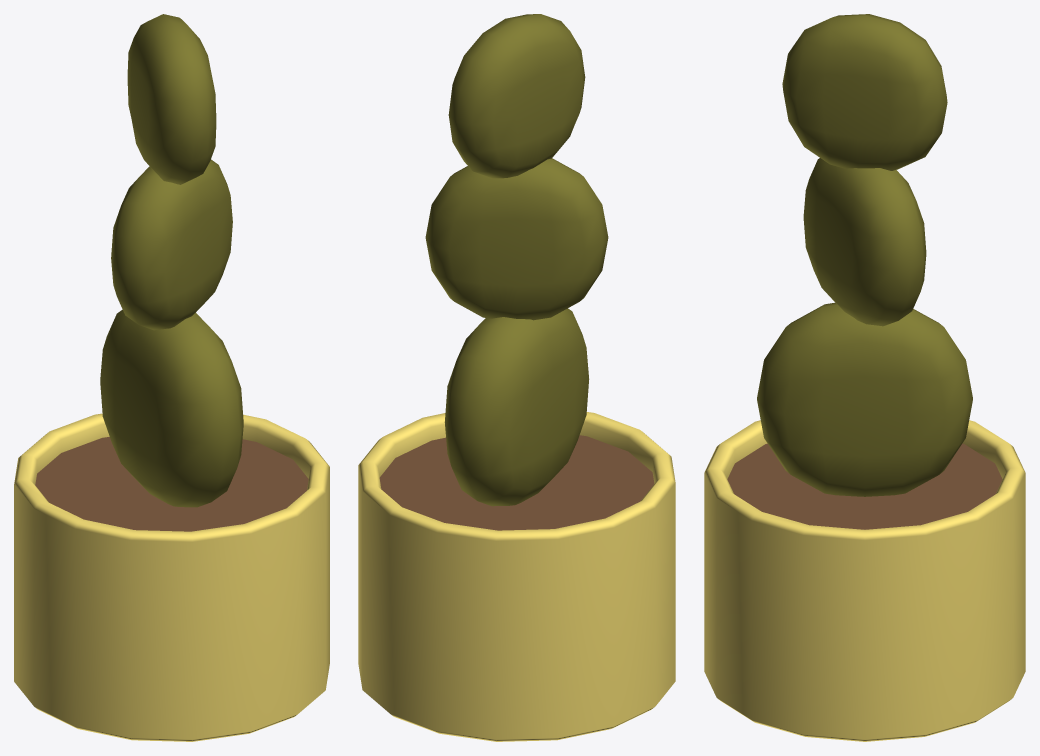
Rendered from Cactus_8.glb.
3 renders of one model, left to right at view 1: azimuth 30°, elevation 25°; view 2: azimuth 150°, elevation 25°; view 3: azimuth 270°, elevation 25°, orthographic.
Visible parts, largest first — view 1: Cactus_8; view 2: Cactus_8; view 3: Cactus_8.
Part boxes in pixels (bbox=[...]): Cactus_8: bbox=[14, 14, 329, 741]; Cactus_8: bbox=[358, 14, 675, 741]; Cactus_8: bbox=[704, 14, 1025, 741].
Size of the model in its own units: 0.1508 by 0.3421 by 0.1508.
Materials: 1 (1 with a texture image).
